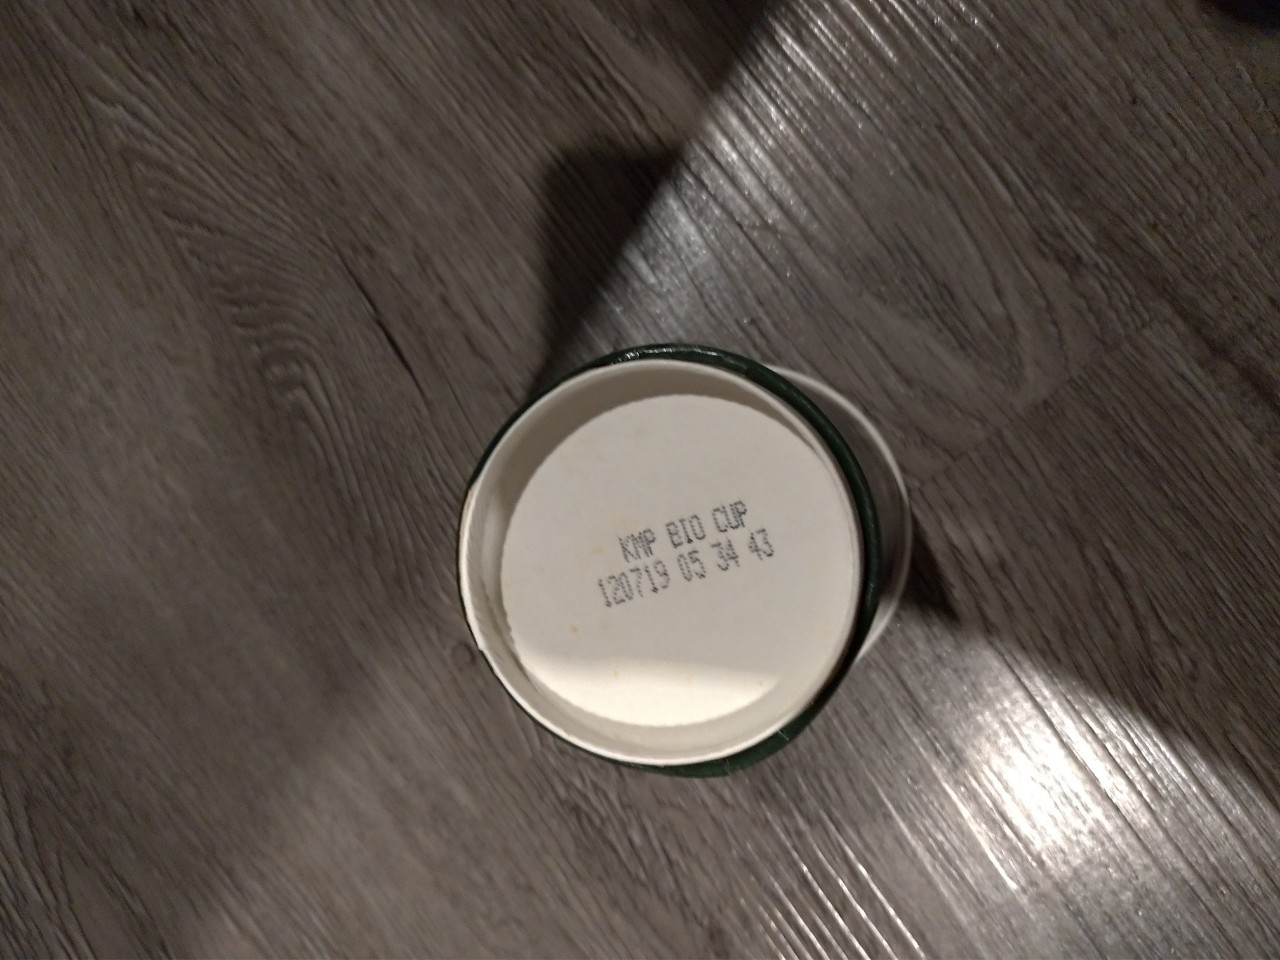PaperCup: (449, 342, 908, 764)
